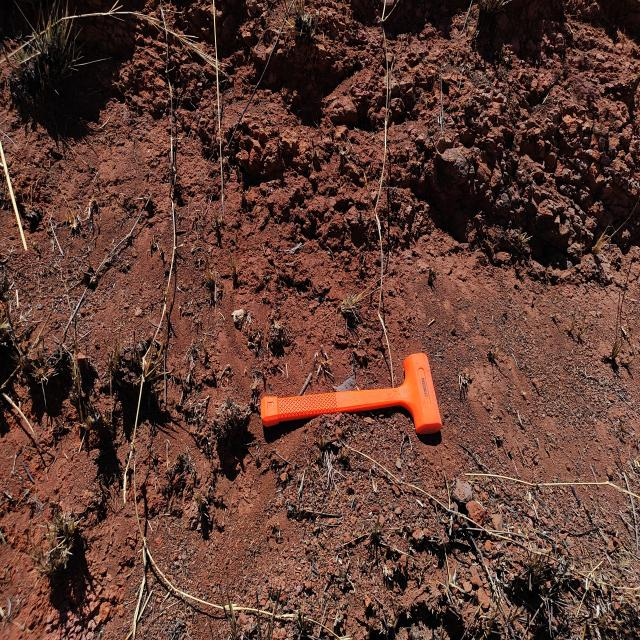Orange_hammer: (260, 351, 442, 437)
